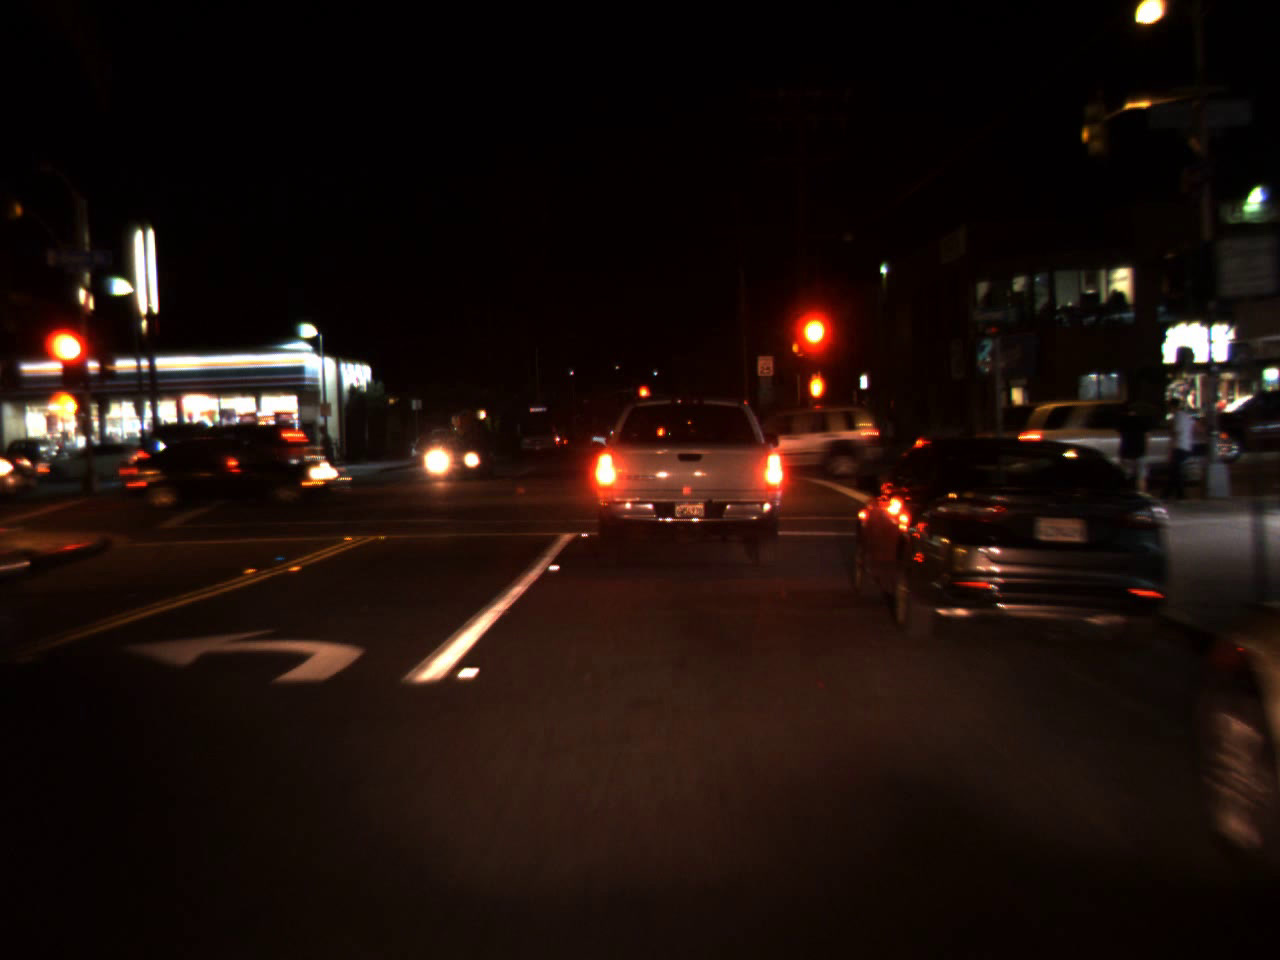stop: (48, 328, 91, 398), (796, 315, 827, 374), (636, 383, 652, 412)
